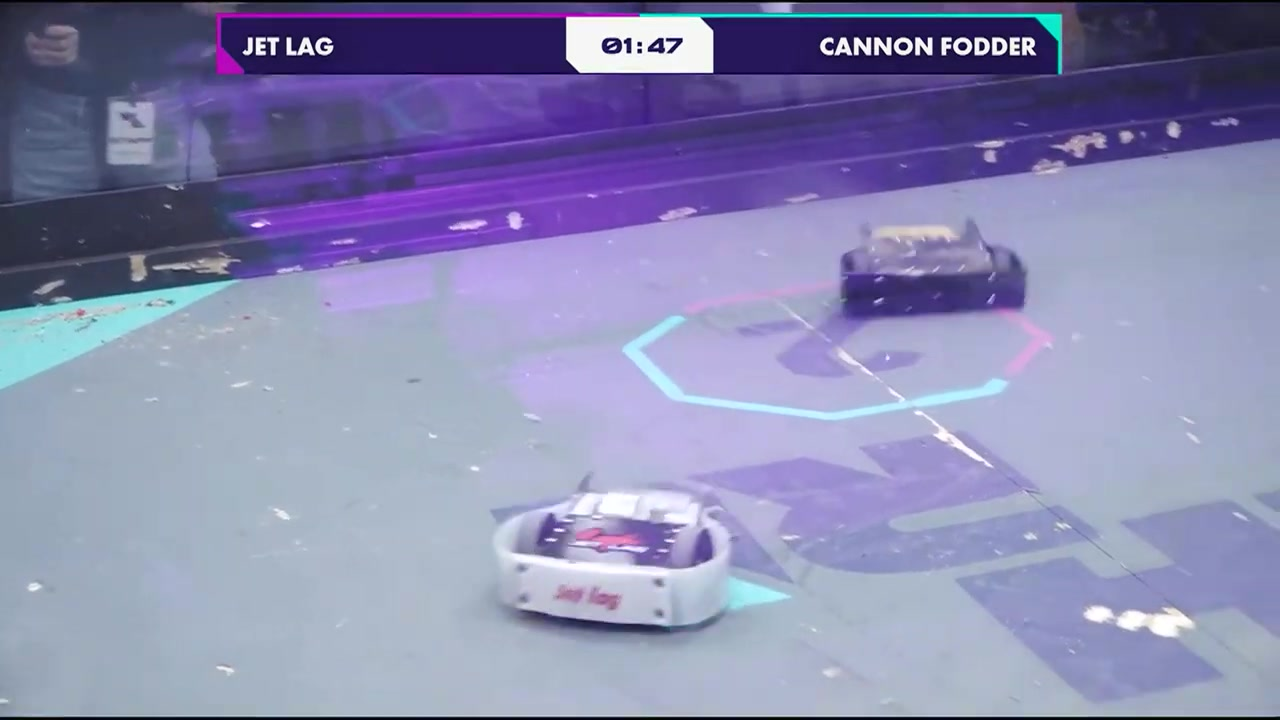combatbot: (500, 487, 726, 629), (835, 233, 1027, 313)
